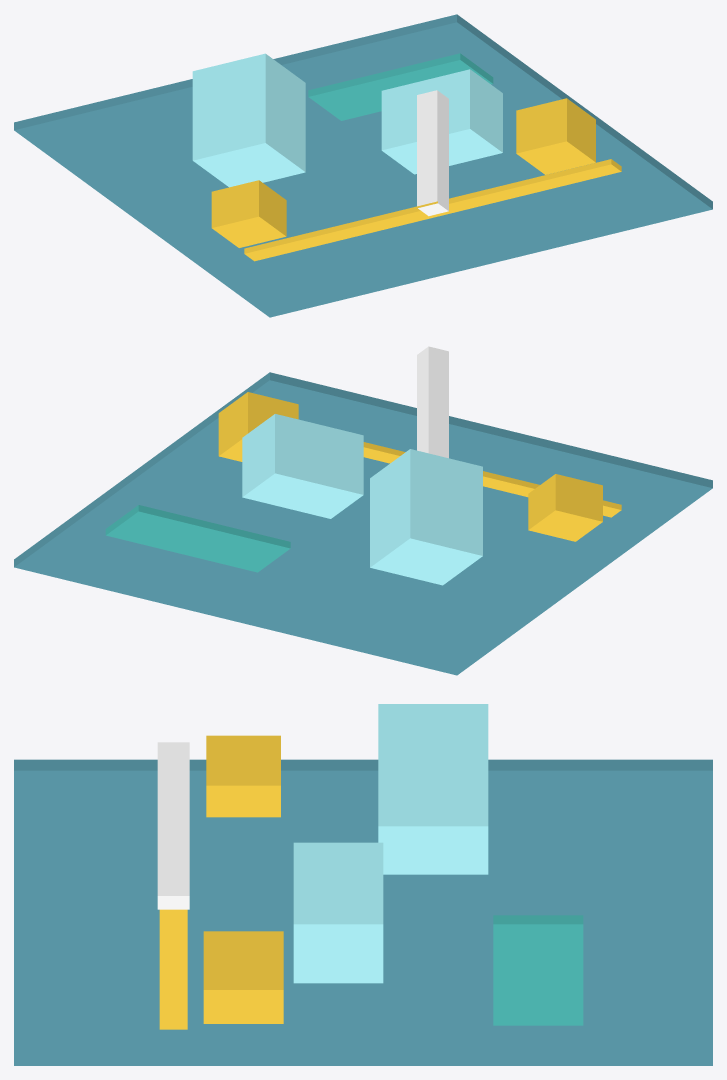
File: continent-city.glb
3 views of the same model, one above another, from view 1: azimuth 30°, elevation 25°; view 2: azimuth 150°, elevation 25°; view 3: azimuth 270°, elevation 25° (orthographic). The views are drawn at different scales.
Visible parts, largest first — view 1: environment floor, main structure, secondary structure, route layer, context block b, environment plane, context block a, observation marker; view 2: environment floor, main structure, secondary structure, environment plane, context block a, observation marker, context block b, route layer; view 3: environment floor, main structure, secondary structure, environment plane, context block b, context block a, observation marker, route layer.
Part boxes in pixels (x1=…): environment floor: x1=14, y1=14, x2=712, y2=317; main structure: x1=192, y1=53, x2=305, y2=187; secondary structure: x1=381, y1=69, x2=502, y2=174; route layer: x1=244, y1=159, x2=621, y2=261; context block b: x1=516, y1=98, x2=595, y2=174; environment plane: x1=308, y1=53, x2=493, y2=120; context block a: x1=211, y1=180, x2=286, y2=247; observation marker: x1=417, y1=90, x2=448, y2=216; environment floor: x1=14, y1=372, x2=712, y2=675; main structure: x1=370, y1=449, x2=482, y2=585; secondary structure: x1=242, y1=414, x2=363, y2=518; environment plane: x1=105, y1=505, x2=290, y2=572; context block a: x1=528, y1=474, x2=602, y2=541; observation marker: x1=417, y1=346, x2=448, y2=458; context block b: x1=218, y1=392, x2=298, y2=461; route layer: x1=363, y1=442, x2=621, y2=517; environment floor: x1=14, y1=759, x2=712, y2=1065; main structure: x1=378, y1=704, x2=488, y2=874; secondary structure: x1=293, y1=842, x2=383, y2=983; environment plane: x1=493, y1=915, x2=583, y2=1025; context block b: x1=203, y1=931, x2=283, y2=1023; context block a: x1=206, y1=735, x2=280, y2=817; observation marker: x1=157, y1=742, x2=189, y2=909; route layer: x1=159, y1=909, x2=187, y2=1029.
Bounding box in the file's own units: 7 × 1.87 × 7.
